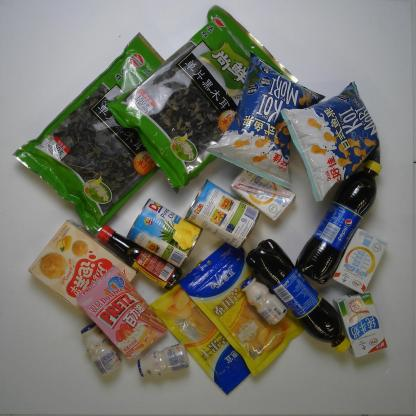Canned Food: (130, 198, 205, 266), (185, 180, 259, 248)
Dessert: (34, 215, 142, 321), (72, 270, 168, 355)
Dried Food: (11, 33, 194, 238), (120, 2, 298, 191)
Dried Fruit: (174, 230, 308, 375), (148, 272, 278, 397)
Drink: (229, 225, 356, 353), (295, 159, 381, 286)
Milk: (334, 286, 389, 360), (229, 165, 295, 220), (332, 229, 387, 293), (80, 316, 124, 378), (240, 276, 288, 325), (136, 340, 190, 378)
Puffed Food: (211, 52, 319, 188), (280, 75, 383, 199)
Seasoner: (97, 222, 178, 288)
